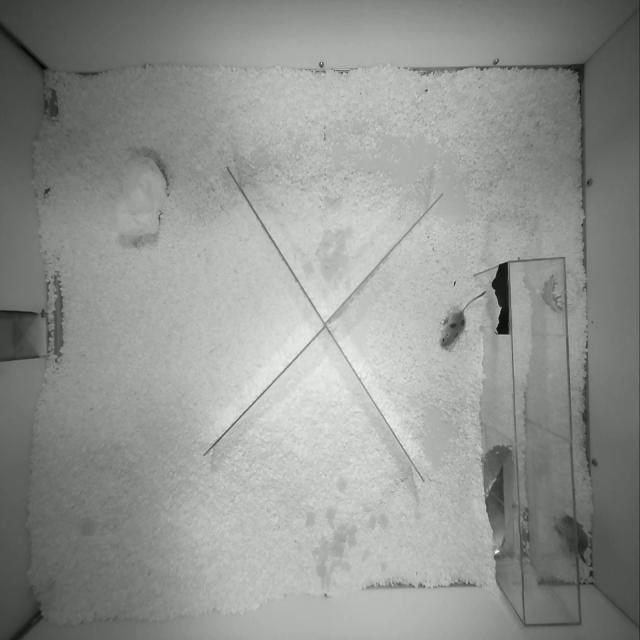pup_fluffy: (554, 515, 588, 562)
pup_spotted: (440, 292, 485, 347)
